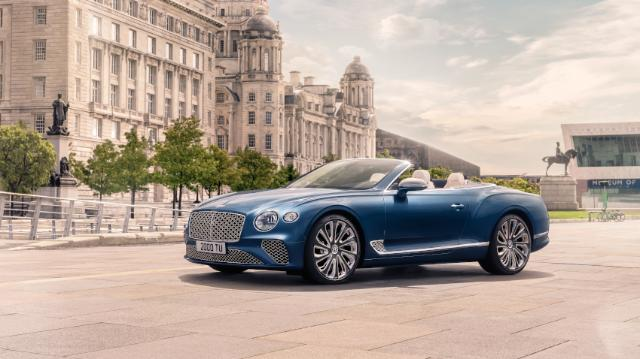bentley: (182, 157, 550, 285)
